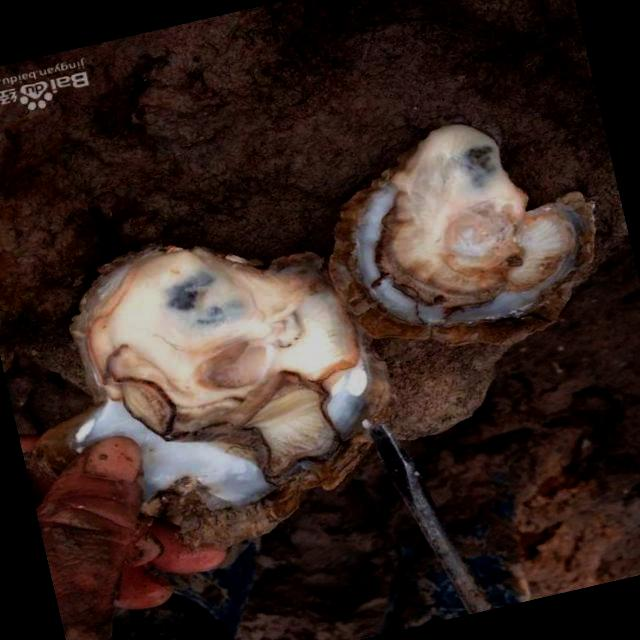Oyster-Open: (65, 240, 392, 528), (328, 125, 594, 345)
